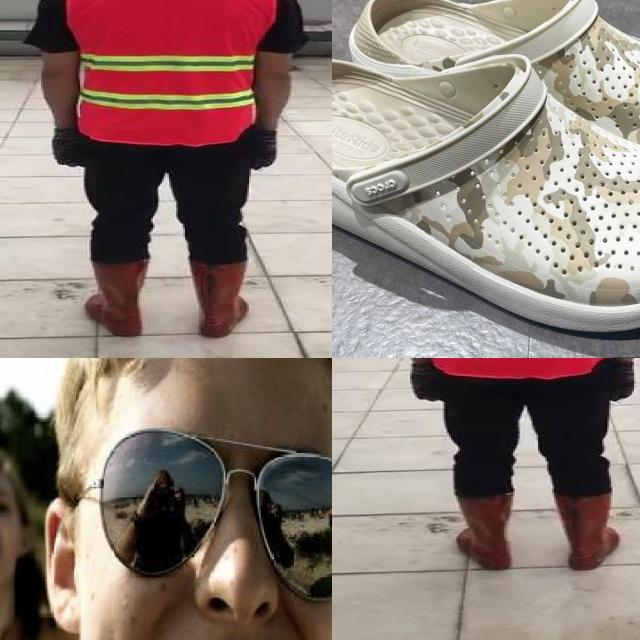No_Ear-Protection: (33, 495, 98, 639)
Sandals: (332, 0, 640, 345)
boots: (554, 492, 622, 571), (82, 260, 148, 337), (453, 492, 515, 571), (188, 261, 250, 338)
face_nomask: (83, 427, 332, 640), (0, 488, 17, 577)
glasses: (70, 429, 332, 613)
hand_glove: (414, 362, 446, 402), (50, 129, 84, 166), (608, 362, 638, 403), (255, 130, 278, 170)
head_nohelmet: (55, 358, 332, 425)
person: (26, 0, 311, 347), (379, 358, 640, 575), (0, 439, 80, 640)
vest: (64, 0, 274, 146)
